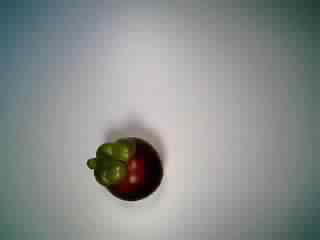mangosteen: (83, 133, 165, 206)
